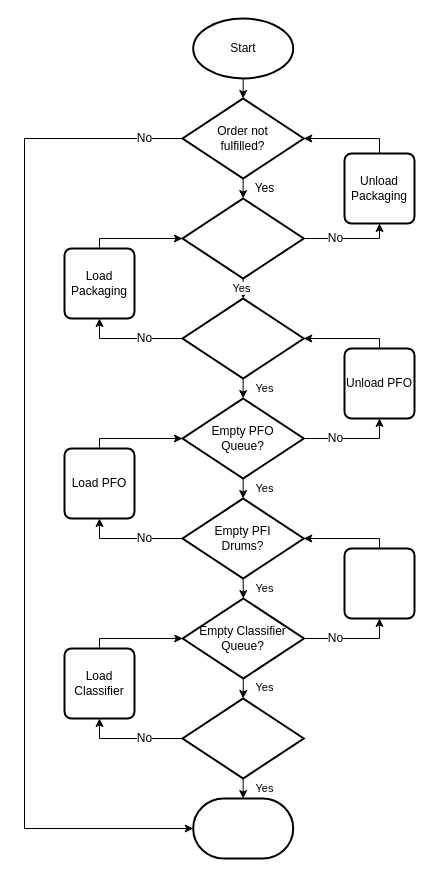
Some shapes in this 433 by 876 pixel diagram are drawn without their labels. Here are the shapes that lost their labels. From the top down, the box of each, then its label:
(181, 197, 304, 279): Empty Package Queue?
(181, 297, 304, 379): Empty PI Drums?
(343, 547, 415, 619): Unload Classifier
(181, 697, 304, 779): Empty RMI Drums?
(192, 797, 294, 859): End
